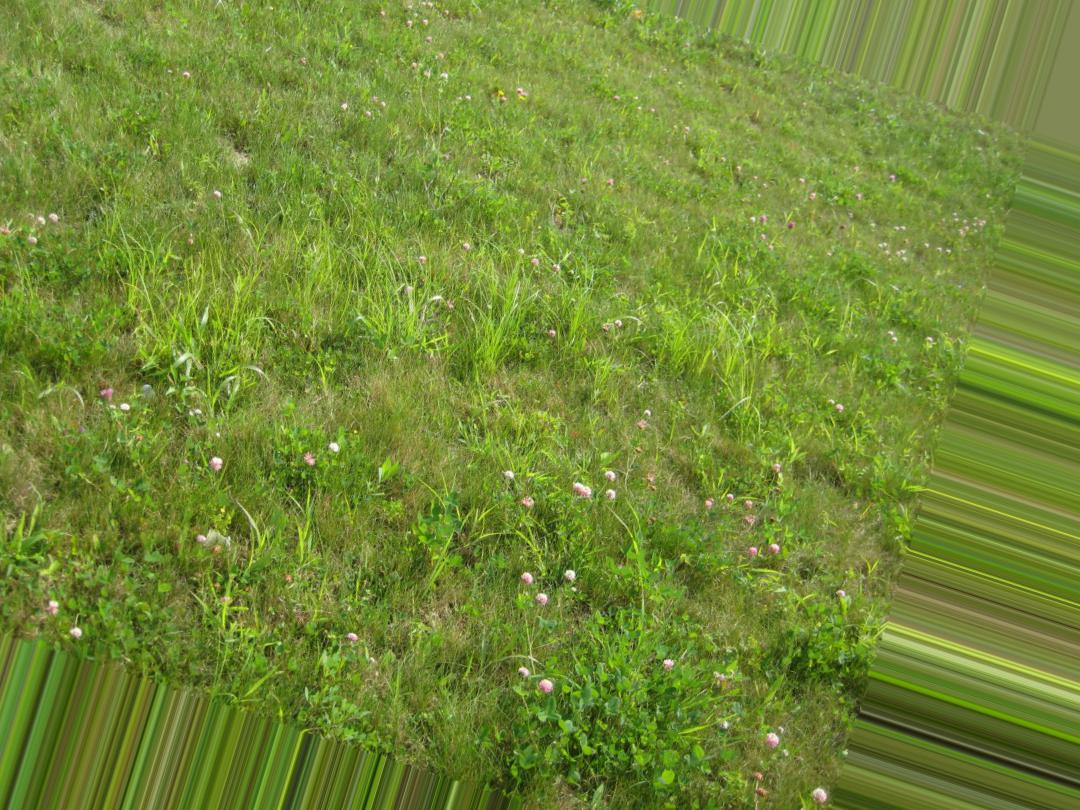patch: (548, 371, 709, 520), (319, 485, 493, 612), (329, 362, 484, 432)
